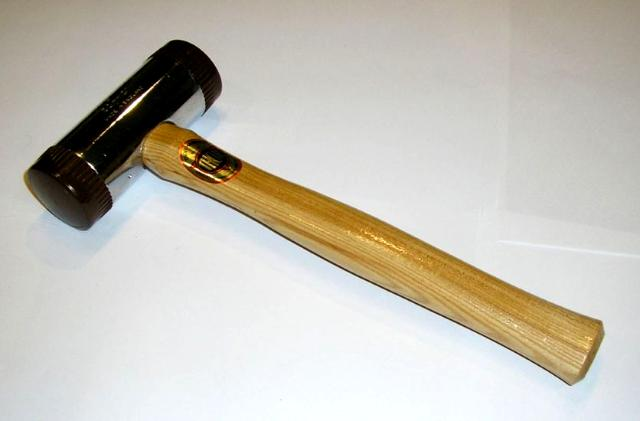hammer: (19, 36, 609, 392)
